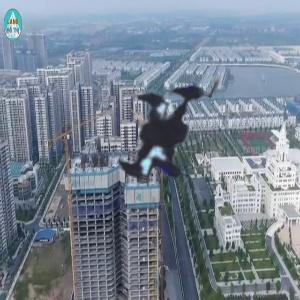drone: (57, 27, 274, 244)
